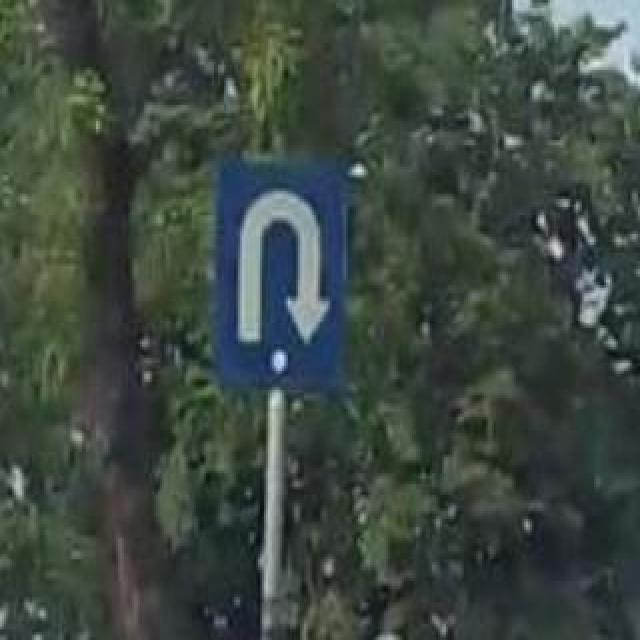traffic sign: (216, 153, 350, 392)
